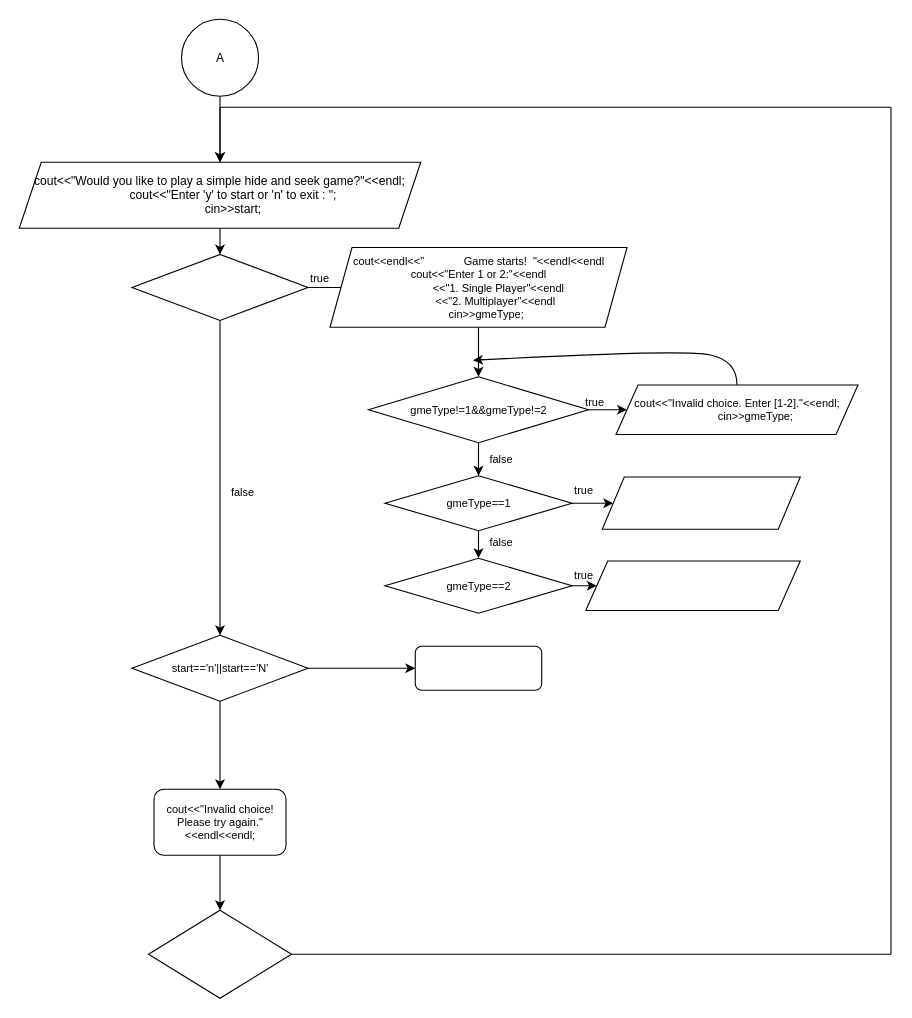
This 912x1018 diagram has some shape labels left out. The shapes that lost their labels are listed below. From the top down, each one's centre as x and y in pixels, then its label:
(219,286): start=='y'||start=='Y'
(700,502): cout<<"Enter player's name: " cin>>plyer; playGme(plyer,atmpSum);
(692,585): cout<<"Input number of players: "; cin>>numPlyer; playGme(numPlyer);
(478,667): cout<<"Exiting. See ya later!"<<endl<<endl; exit(0);
(219,953): start!='n'&&start!='N'
